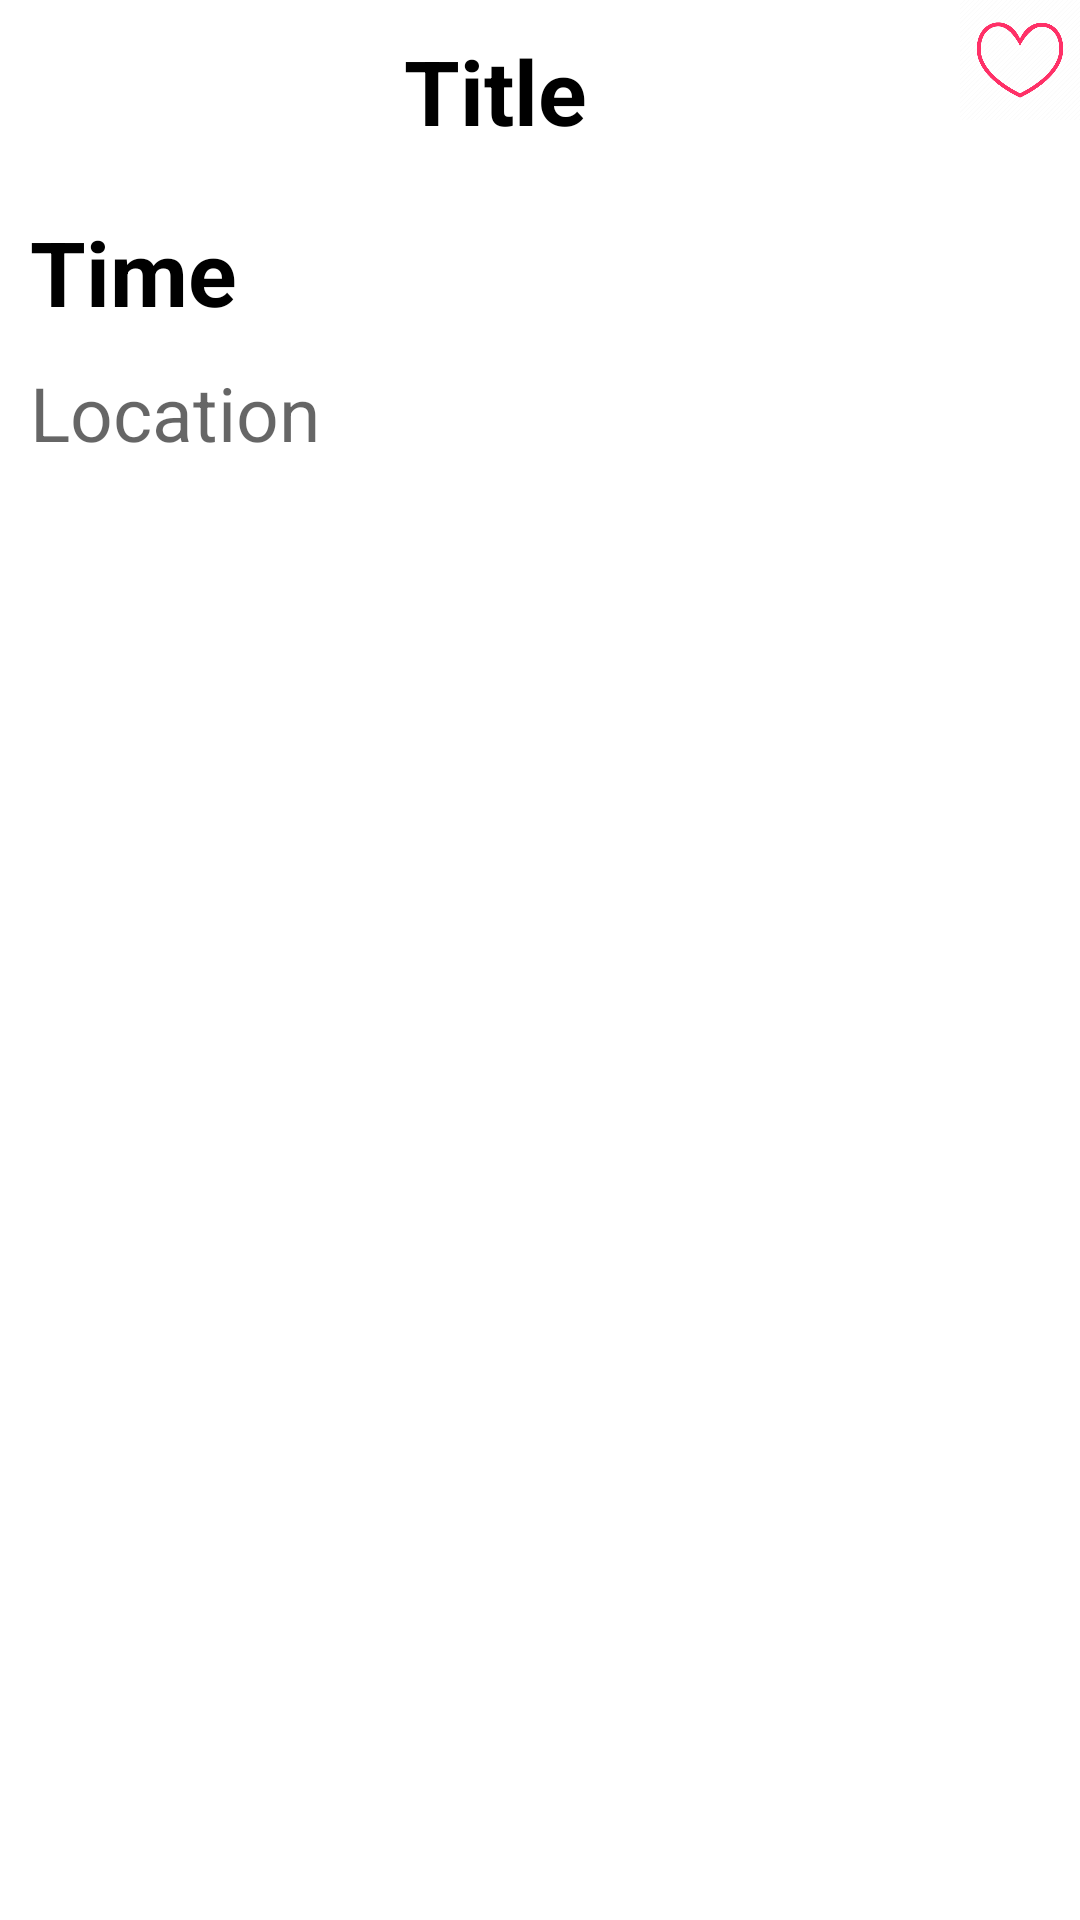

Point at icon controls on the screen. Image size 1080x1920, points as (x,y).
hearticon: (1020,60)
